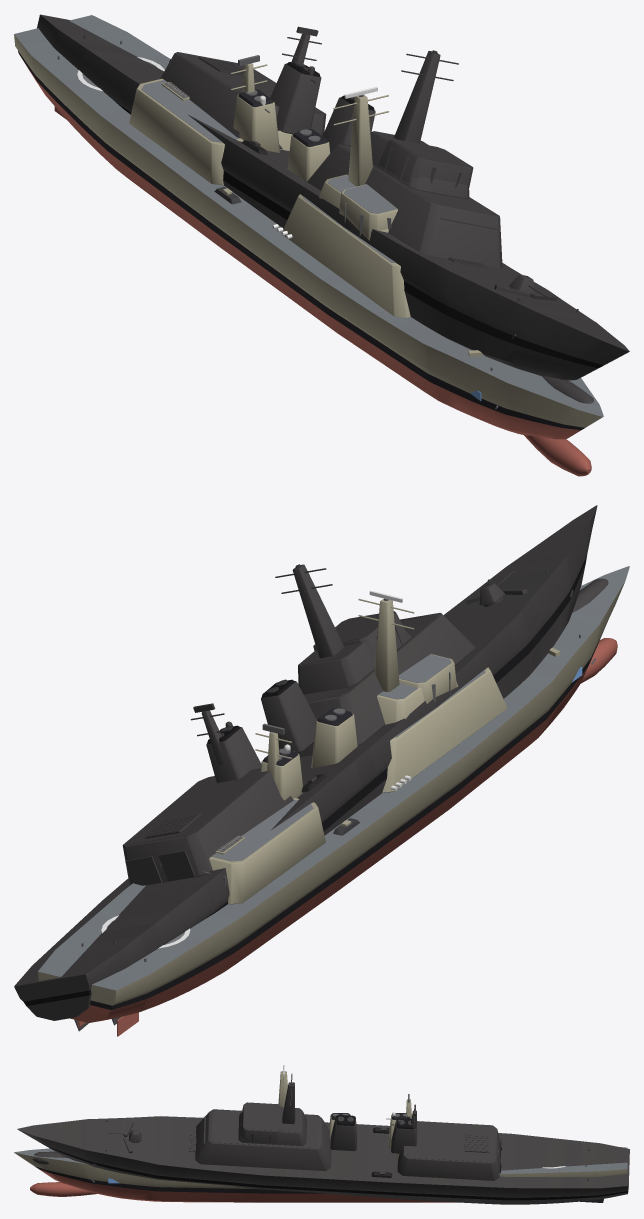
File: destroyer__arleigh_burke_class.glb
3 views of the same model, one above another, from view 1: azimuth 30°, elevation 25°; view 2: azimuth 150°, elevation 25°; view 3: azimuth 270°, elevation 25° (orthographic). The views are drawn at different scales.
Parts seen in each view (by area): view 1: Hull_Mesh, Wreck; view 2: Wreck, Hull_Mesh; view 3: Wreck, Hull_Mesh.
Boxes of the visible parts, x1,y1,x2,y2 form: Hull_Mesh: [14, 15, 603, 476]; Wreck: [37, 14, 629, 403]; Wreck: [14, 505, 608, 1031]; Hull_Mesh: [38, 566, 629, 1036]; Wreck: [17, 1073, 629, 1204]; Hull_Mesh: [14, 1071, 627, 1202].
Size of what is drawn, in the model's own units: 27.87 by 40.4 by 162.
